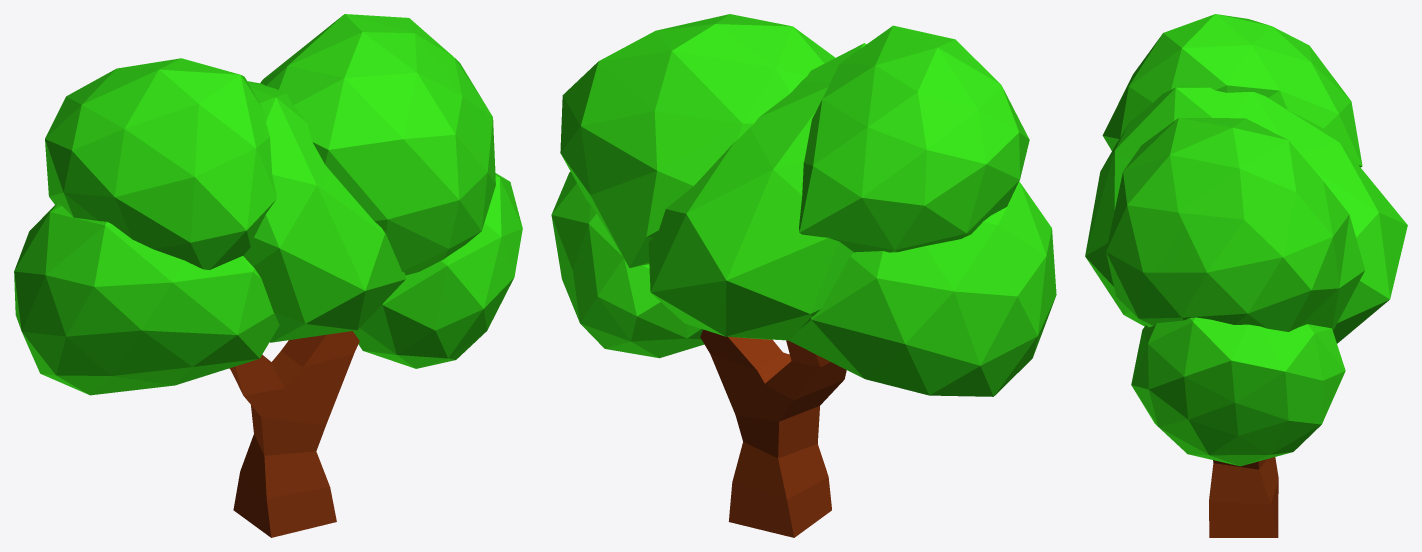
Rendered from OakTree0.fbx.
The picture shows the model from 3 angles, left to right: view 1: azimuth 30°, elevation 25°; view 2: azimuth 150°, elevation 25°; view 3: azimuth 270°, elevation 25°; orthographic projection. The views are drawn at different scales.
Parts seen in each view (by area): view 1: OakTree1; view 2: OakTree1; view 3: OakTree1.
Boxes of the visible parts, left/top/right/bottom form: OakTree1: left=14, top=14, right=522, bottom=537; OakTree1: left=551, top=14, right=1056, bottom=537; OakTree1: left=1085, top=14, right=1407, bottom=537.
Size of the model in its own units: 976 by 959 by 628.
